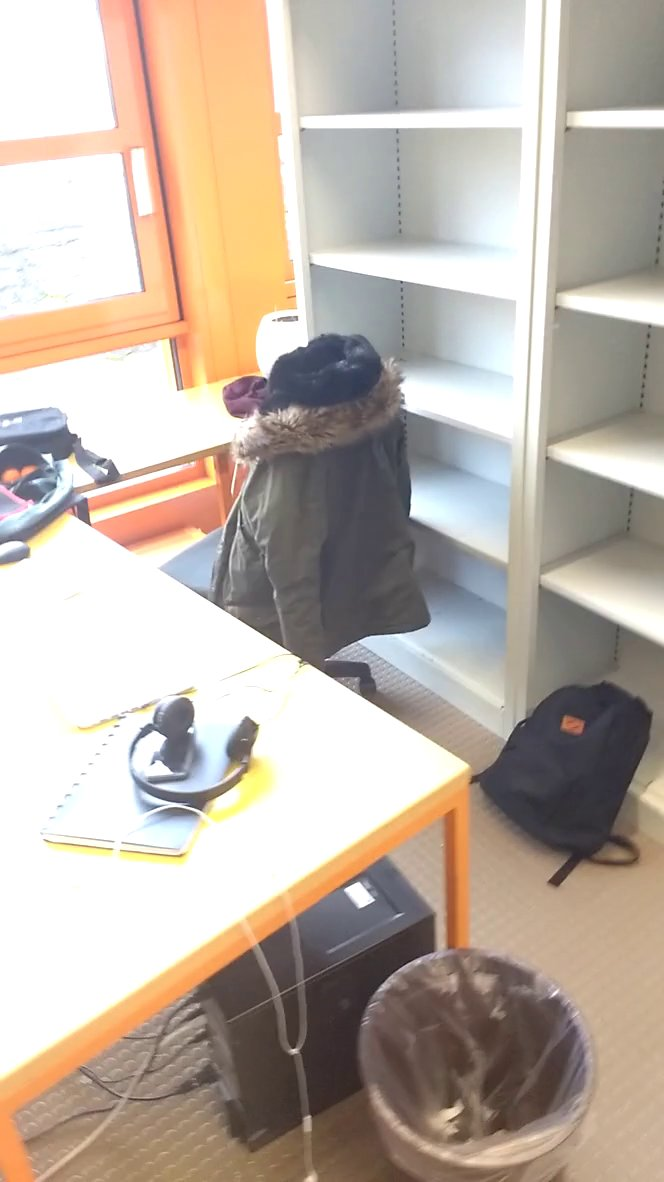bag: (473, 676, 664, 872)
bin: (343, 940, 614, 1182)
